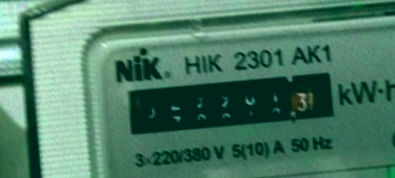0: (240, 81, 257, 107), (140, 97, 158, 119)
1: (265, 80, 280, 104)
2: (165, 92, 183, 112)
3: (293, 89, 308, 112)
9: (216, 86, 232, 109), (191, 88, 205, 111)
screen: (113, 61, 345, 145)
